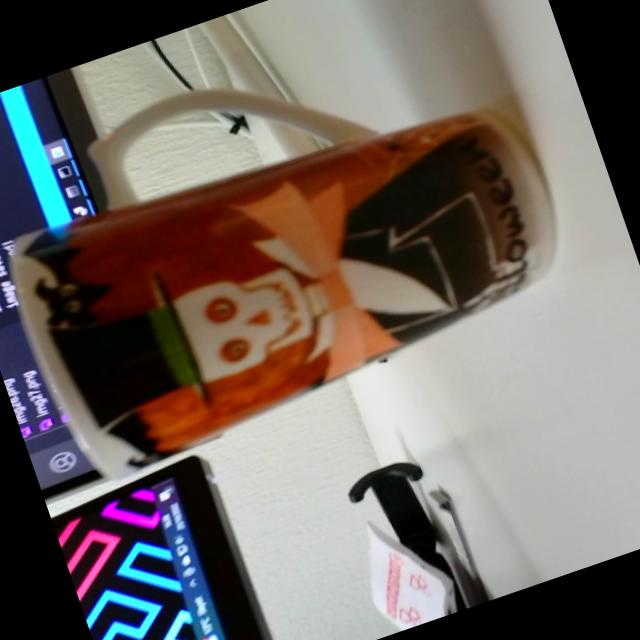Halloween cup: (0, 0, 597, 496)
